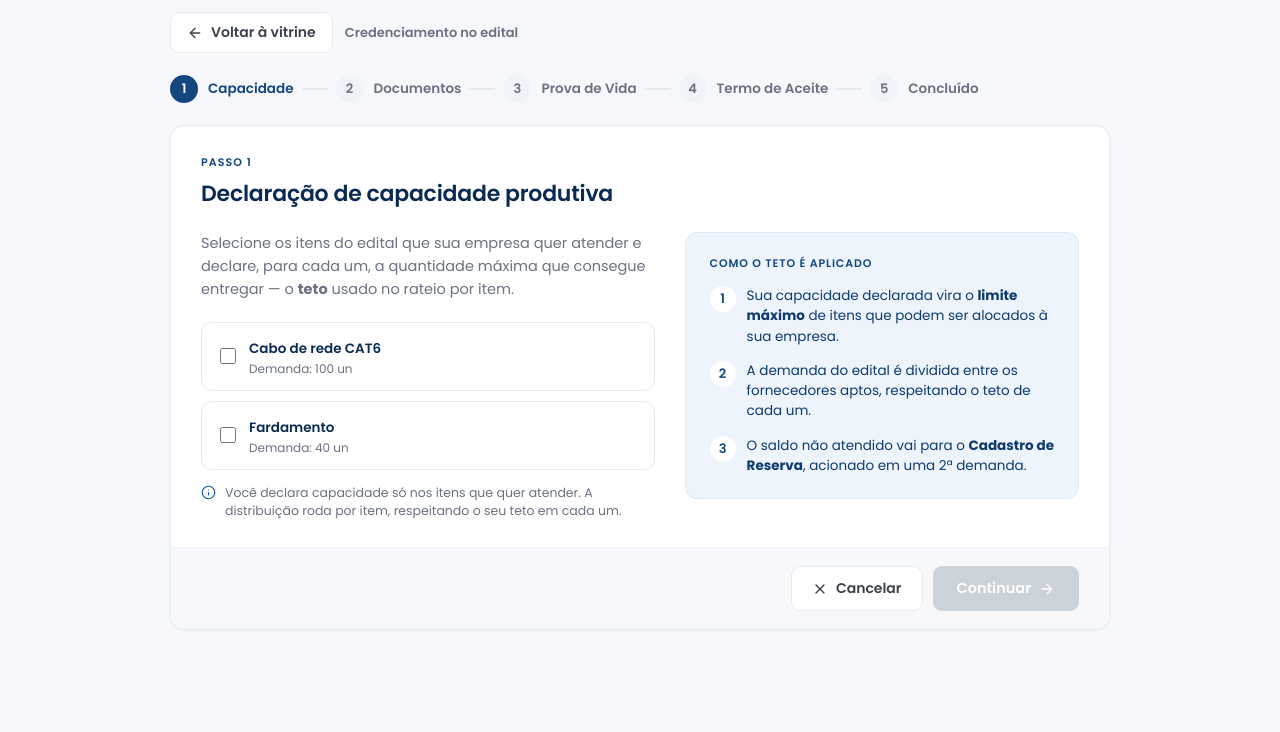
Test: Credenciamento — wizard por Termo de Aceite (UC004 + prova de vida UC007) › em falha do backend, mostra a mensagem específica no toast e inline, e não avança
The image size is (1280, 732).
Click the 1st checkbox with test id "capacidade-item-check" at (228, 356), box [220, 348, 236, 364]
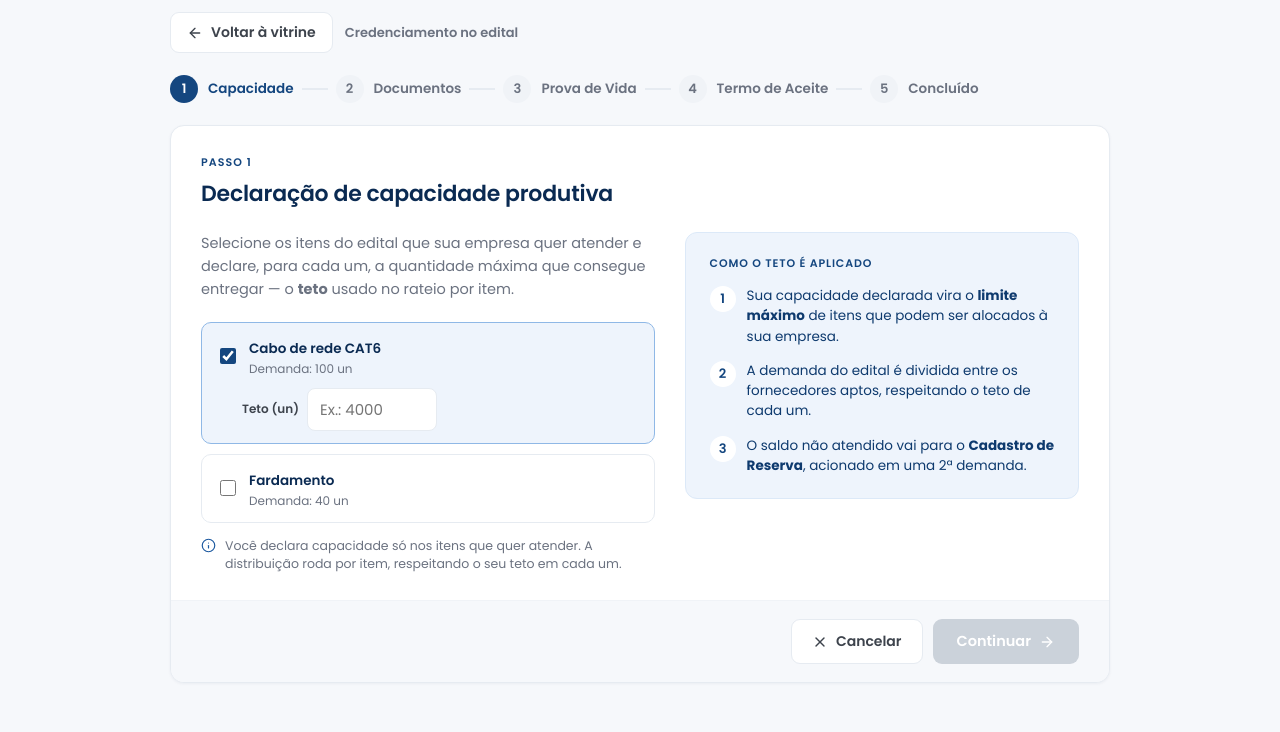
Type "200" into the number field with test id "capacidade-item-teto" at (372, 409), box [307, 388, 437, 431]
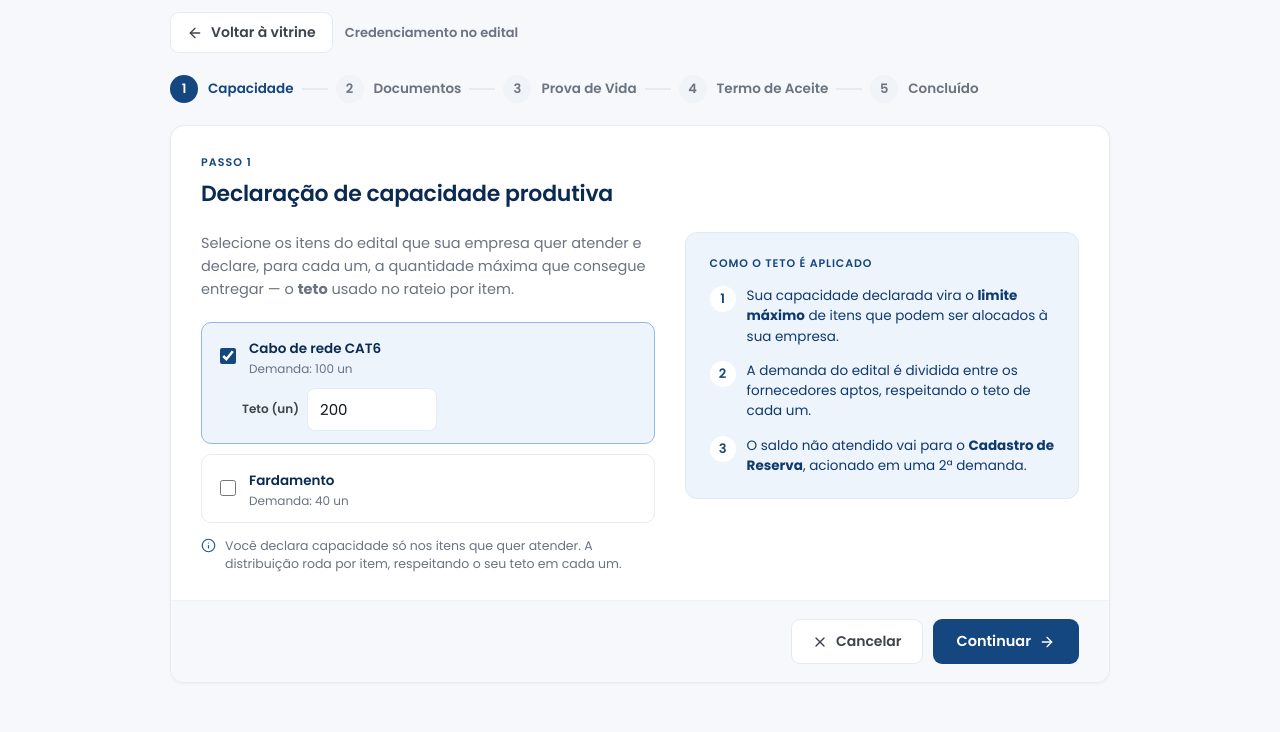
Click the button with test id "avancar" at (1006, 642), box [932, 619, 1079, 664]
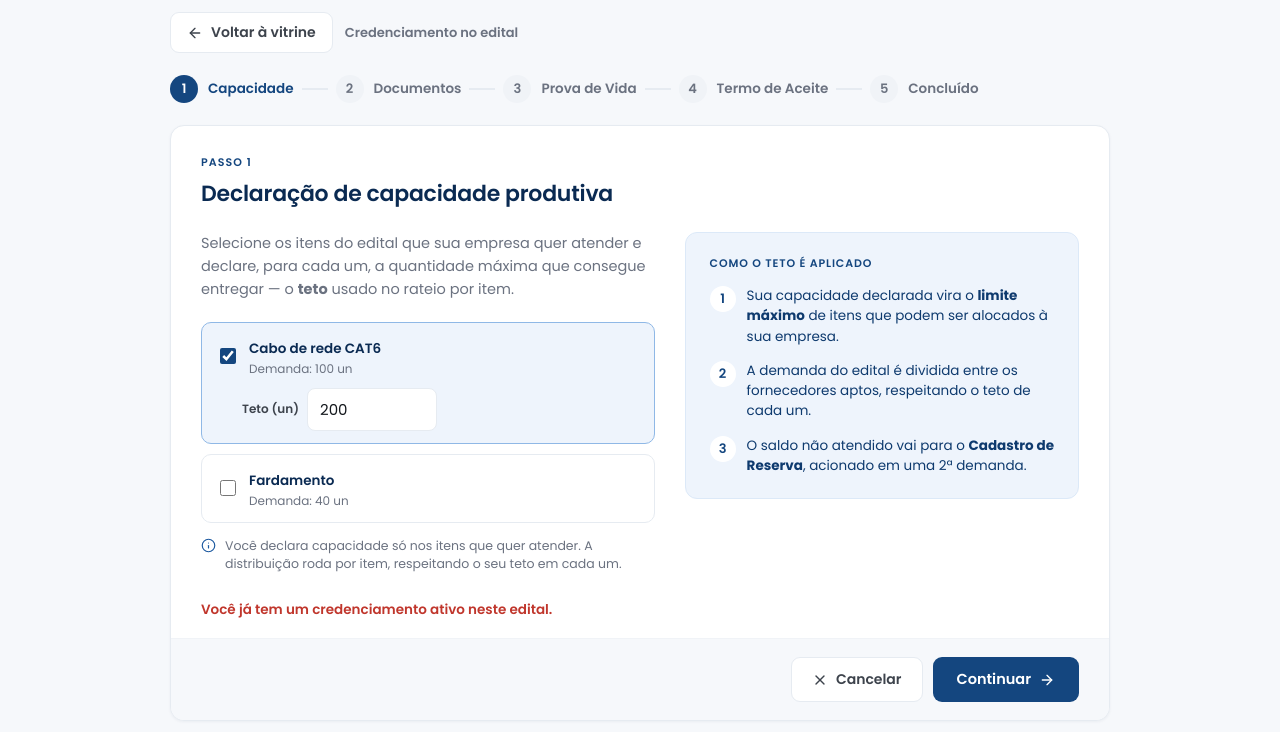
Expected: the text with test id "erro-credenciamento" reads "Você já tem um credenciamento ativo neste edital.", [201, 600, 552, 619]
